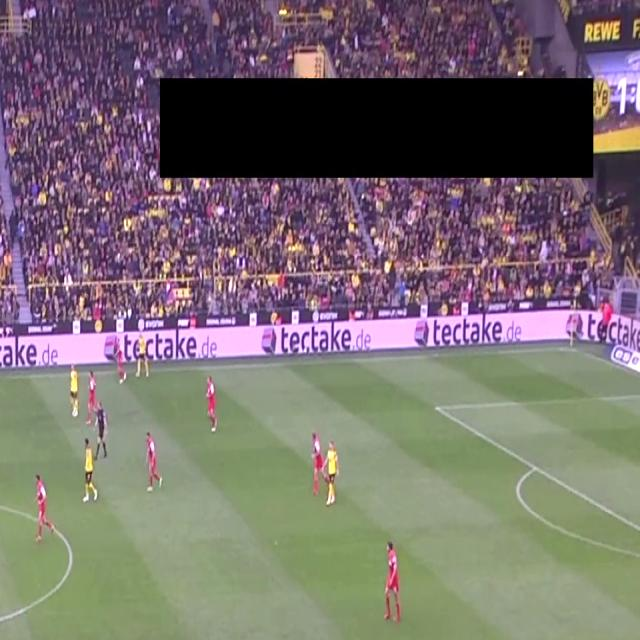referee: (93, 398, 111, 467)
soccer-player: (382, 535, 408, 633), (33, 464, 57, 545), (322, 430, 344, 510), (306, 423, 326, 507), (142, 421, 163, 498), (78, 433, 98, 511), (205, 368, 221, 440), (68, 356, 84, 422), (85, 366, 100, 428), (119, 326, 132, 386), (140, 331, 154, 381)
